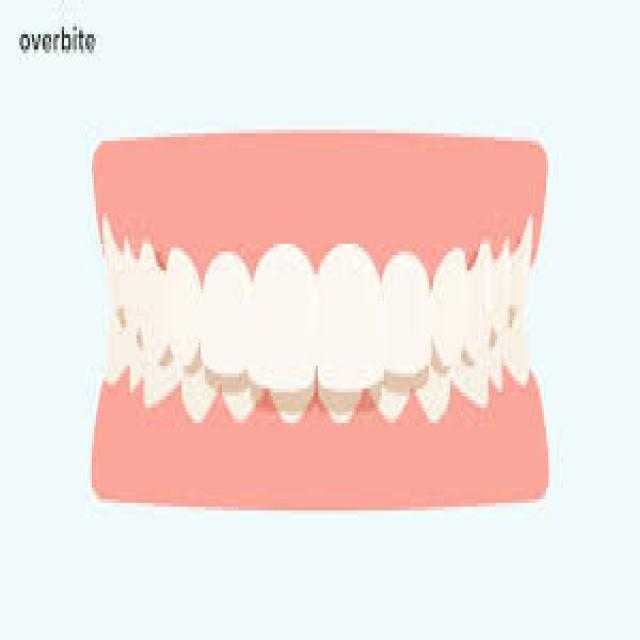tooth: (254, 259, 320, 396), (322, 255, 384, 385), (197, 252, 246, 377), (380, 263, 429, 373), (160, 251, 203, 366), (435, 255, 465, 362), (469, 240, 491, 362)
